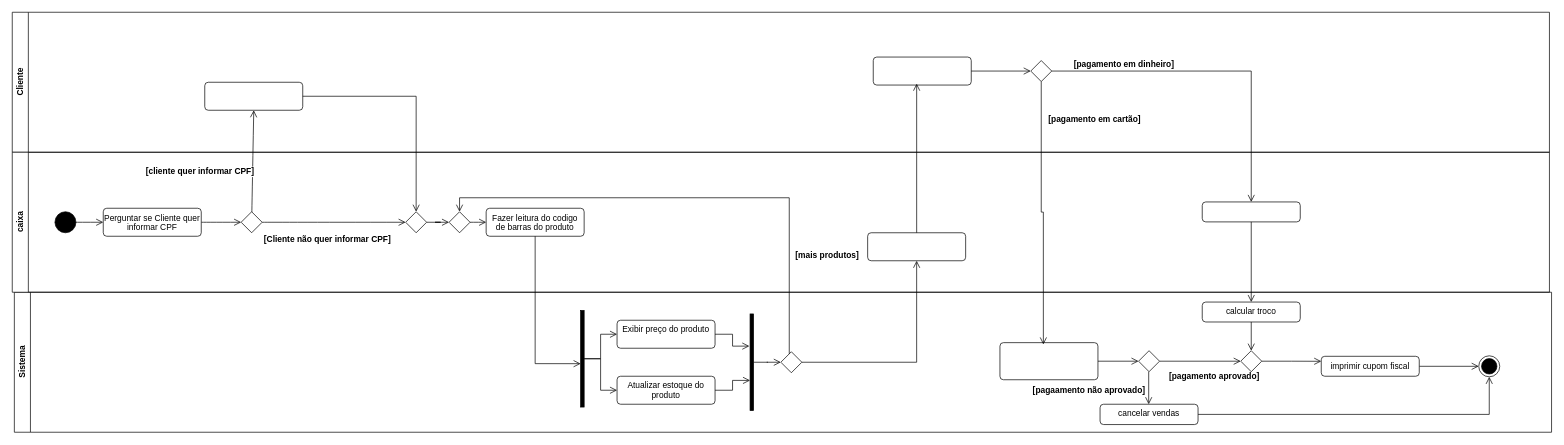
Image size: 1564x445. Some labels were removed from this diagram. Each missing label, with the centre of its shape:
"Cliente informa a forma de pagamentos" goes at point (922, 70).
"Digitar CPF" goes at point (253, 96).
"Digitar valor recebido" goes at point (1251, 211).
"perguntar sobre o a forma de pagamentos" goes at point (916, 246).
"submeter pagamentos á administradora de cartões" goes at point (1048, 361).
